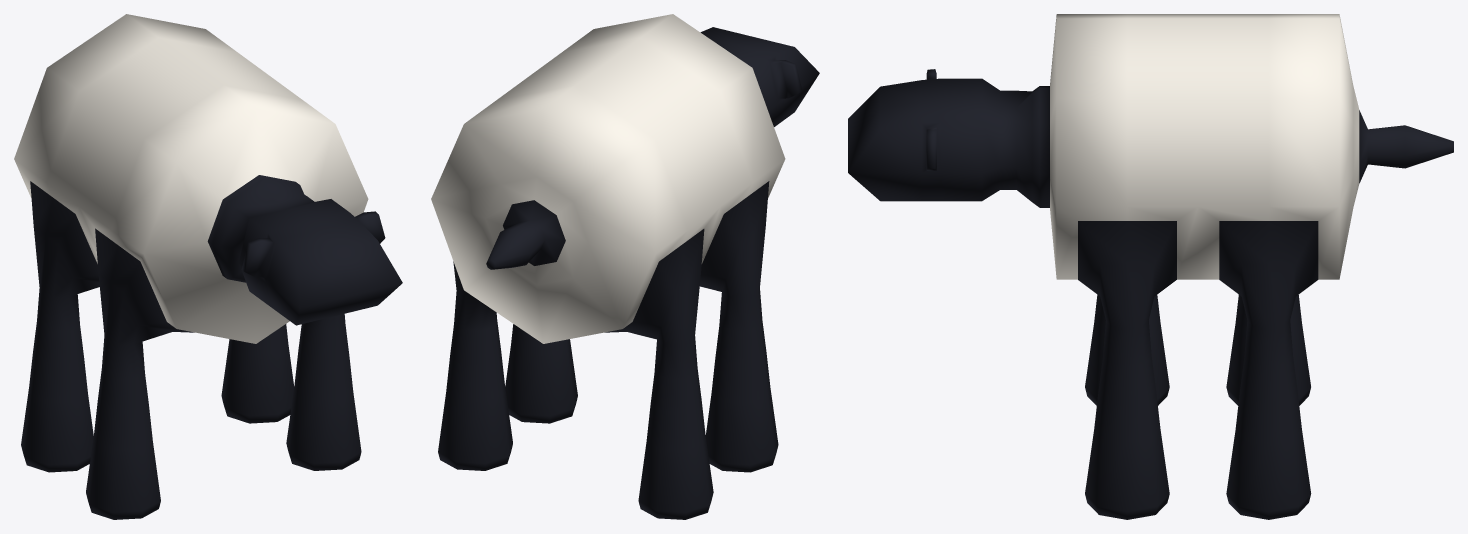
The model's file is sheep.fbx.
3 renders of one model, left to right at view 1: azimuth 30°, elevation 25°; view 2: azimuth 150°, elevation 25°; view 3: azimuth 270°, elevation 25°, orthographic. The views are drawn at different scales.
Parts seen in each view (by area): view 1: Body; view 2: Body; view 3: Body.
Part boxes in pixels (left/top/right/bottom): Body: left=14, top=14, right=402, bottom=519; Body: left=431, top=14, right=819, bottom=519; Body: left=848, top=14, right=1453, bottom=519.
Size of the model in its own units: 238 by 336 by 428.
Materials: 1 (1 with a texture image).
